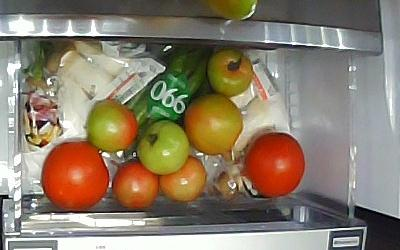tomato: (41, 141, 110, 212), (242, 131, 305, 199), (184, 95, 244, 157), (136, 119, 190, 176), (85, 98, 139, 153), (158, 156, 207, 202), (112, 161, 158, 209), (206, 50, 253, 96)
